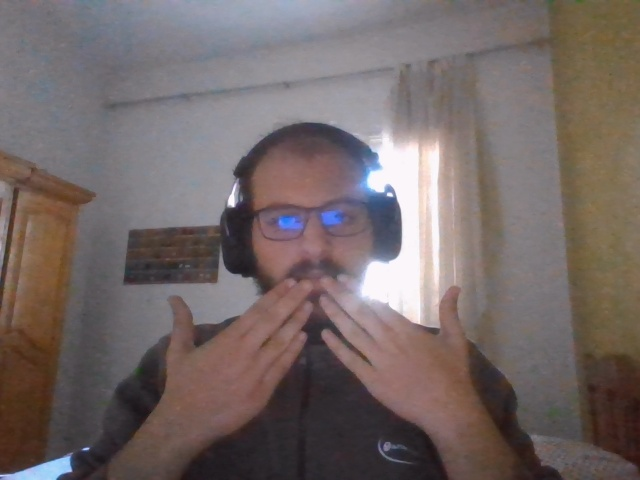Thank You: (171, 280, 462, 425)
